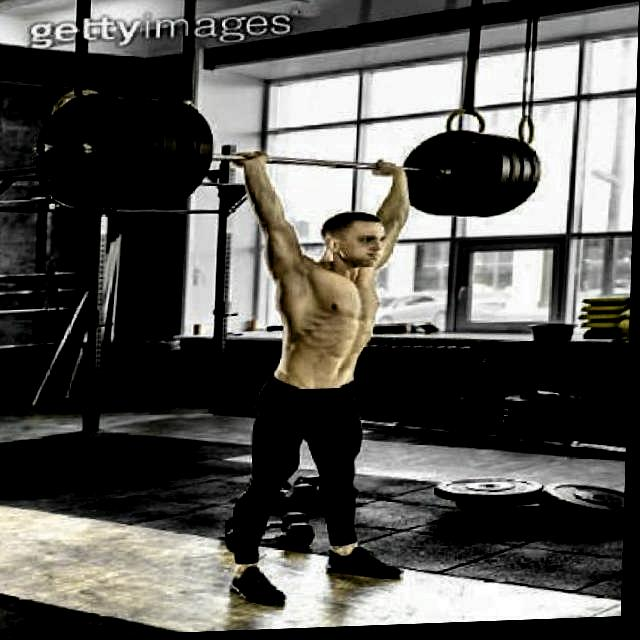barbell: (27, 90, 148, 217)
